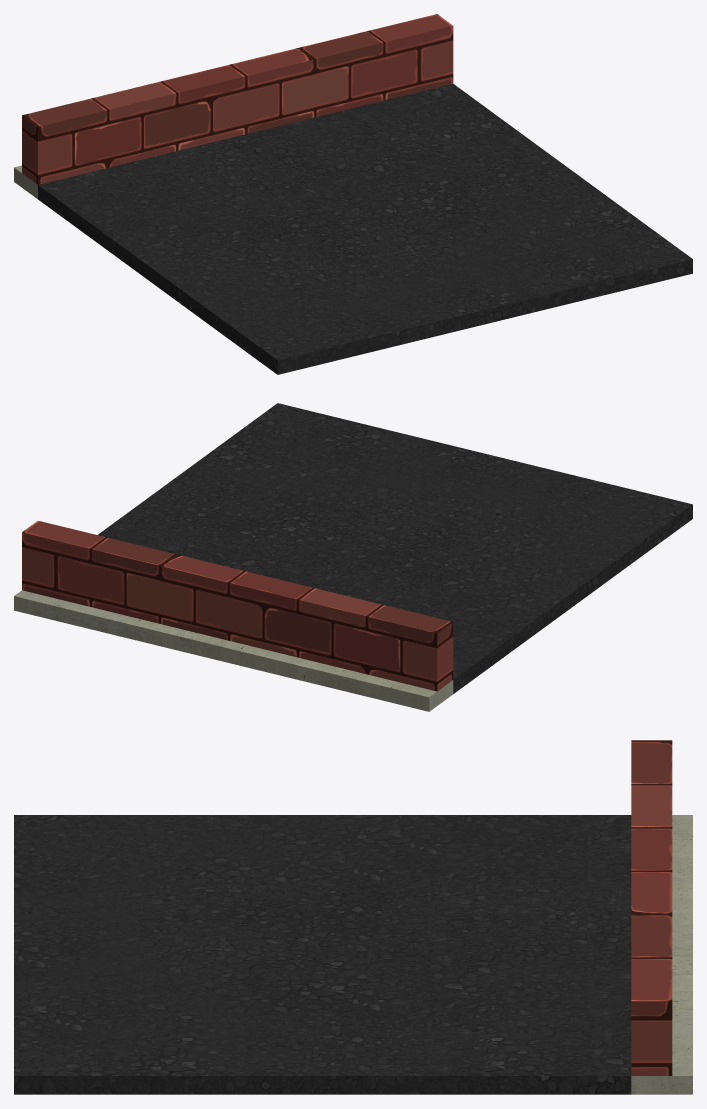
The model's file is roof02_edge.fbx.
The picture shows the model from 3 angles, top to bottom: view 1: azimuth 30°, elevation 25°; view 2: azimuth 150°, elevation 25°; view 3: azimuth 270°, elevation 25°; orthographic projection. The views are drawn at different scales.
Parts seen in each view (by area): view 1: roof02_edge; view 2: roof02_edge; view 3: roof02_edge.
Boxes of the visible parts, x1,y1,x2,y2 form: roof02_edge: (14,14,692,374); roof02_edge: (14,403,692,711); roof02_edge: (14,740,692,1094).
Bounding box in the file's own units: 300 × 50 × 330.
